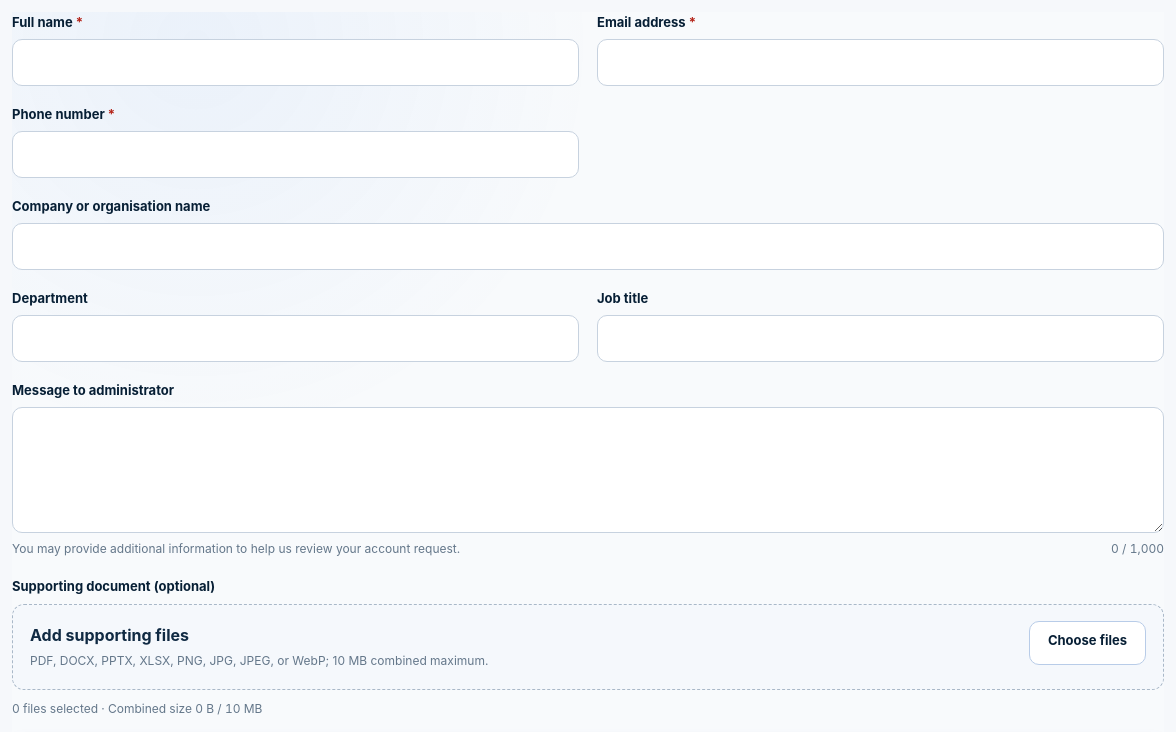
account request and employee summary UI › marks organisation fields optional and counts the administrator message
Type "Review context" into the text box labelled "Message to administrator" at [588, 470], box 12,407 -> 1164,533
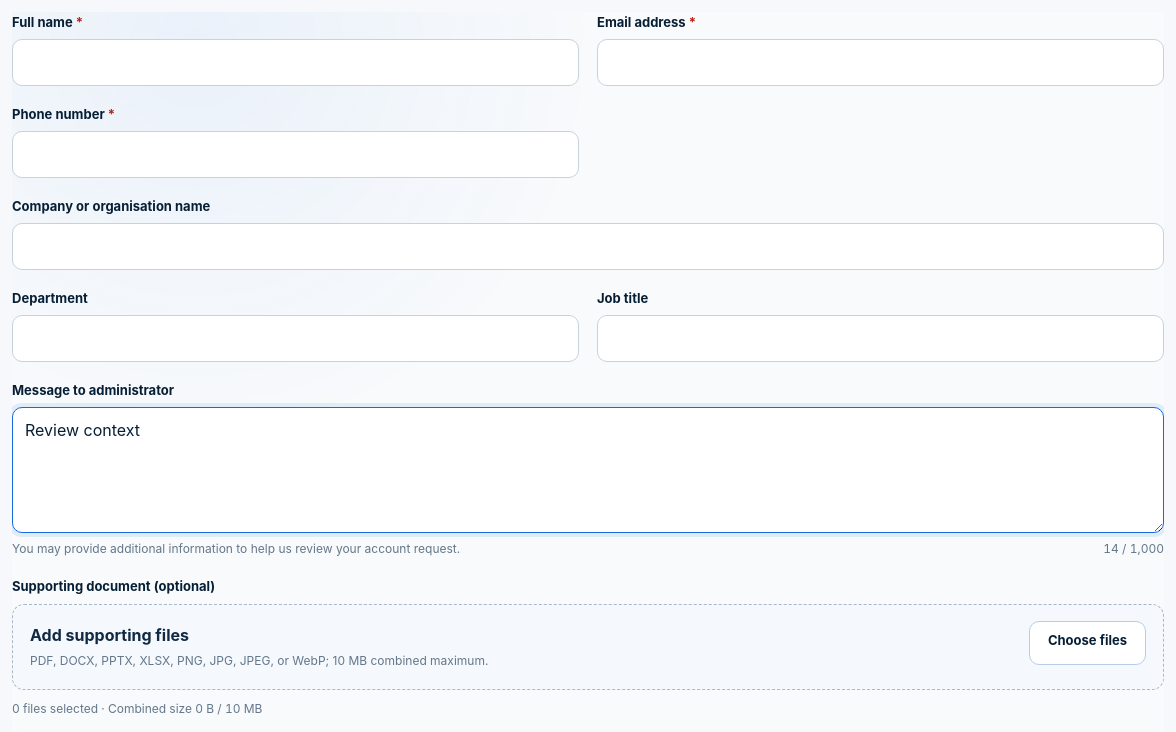
Now the text "14 / 1,000" is shown, box 1103,540 -> 1164,558
